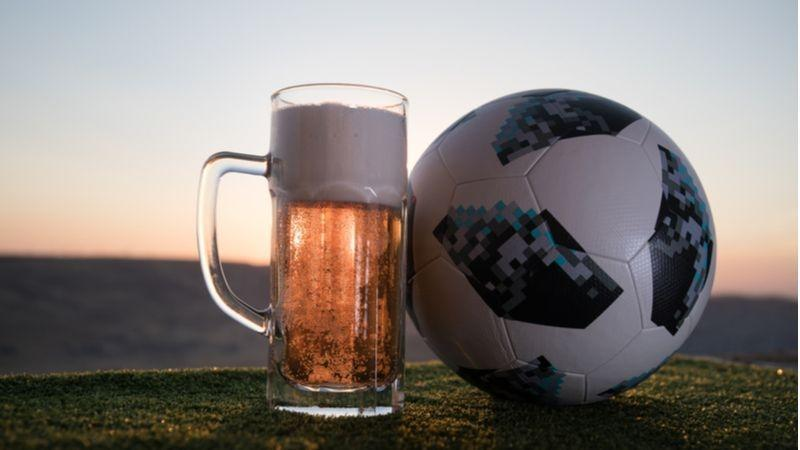glass-mug: (191, 78, 417, 426)
